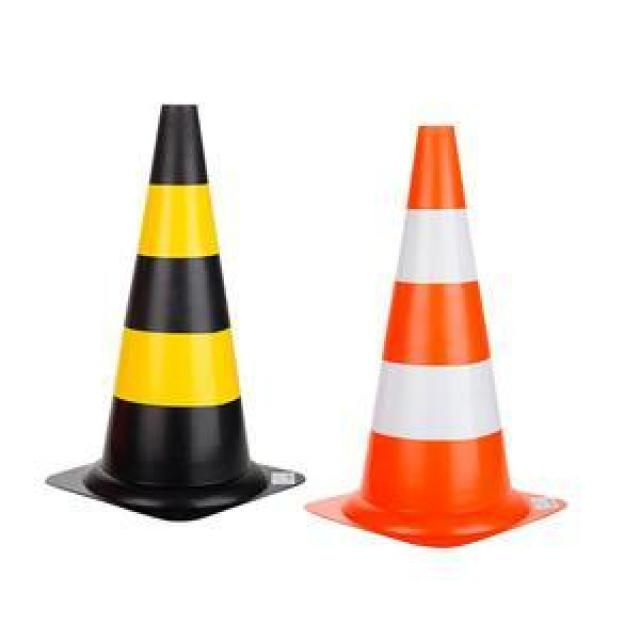cone: (305, 117, 554, 554), (54, 112, 290, 527)
